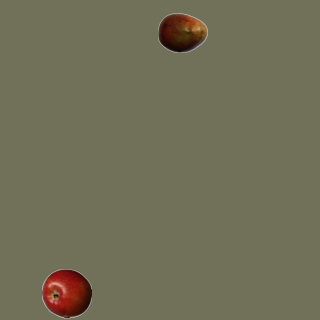Apple Braeburn: (41, 268, 91, 318)
Mango Red: (157, 7, 207, 57)
